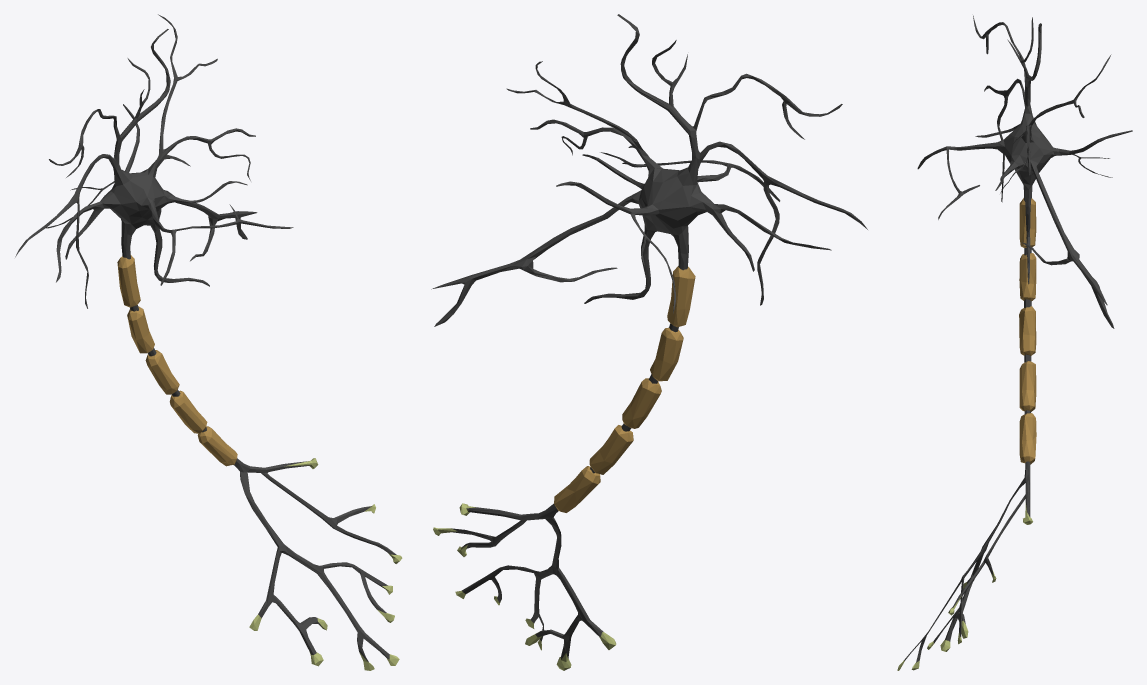
File: neuron_lowPoly.fbx
3 views of the same model, side by side, from view 1: azimuth 30°, elevation 25°; view 2: azimuth 150°, elevation 25°; view 3: azimuth 270°, elevation 25° (orthographic). The views are drawn at different scales.
Parts seen in each view (by area): view 1: mesh; view 2: mesh; view 3: mesh.
Part boxes in pixels (box(x1,y1,x2,y2)): mesh: box(15, 14, 402, 670); mesh: box(431, 14, 867, 670); mesh: box(897, 15, 1132, 670).
Bounding box in the file's own units: 156 × 252 × 91.98.
